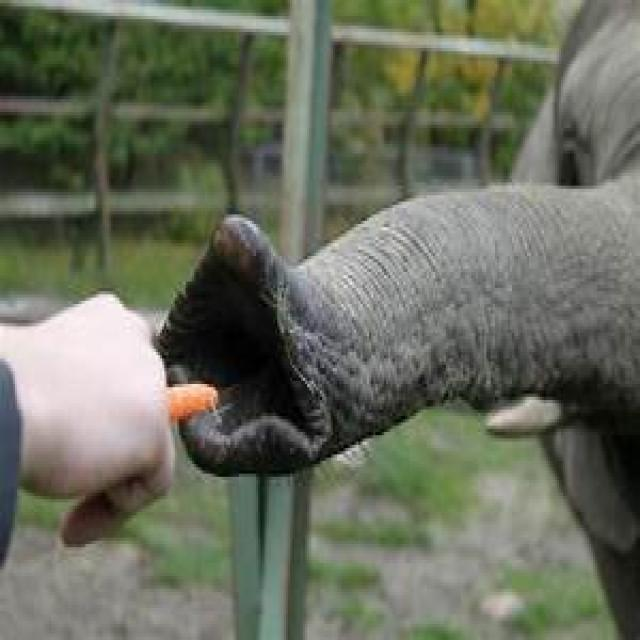elephant: (154, 0, 640, 640)
